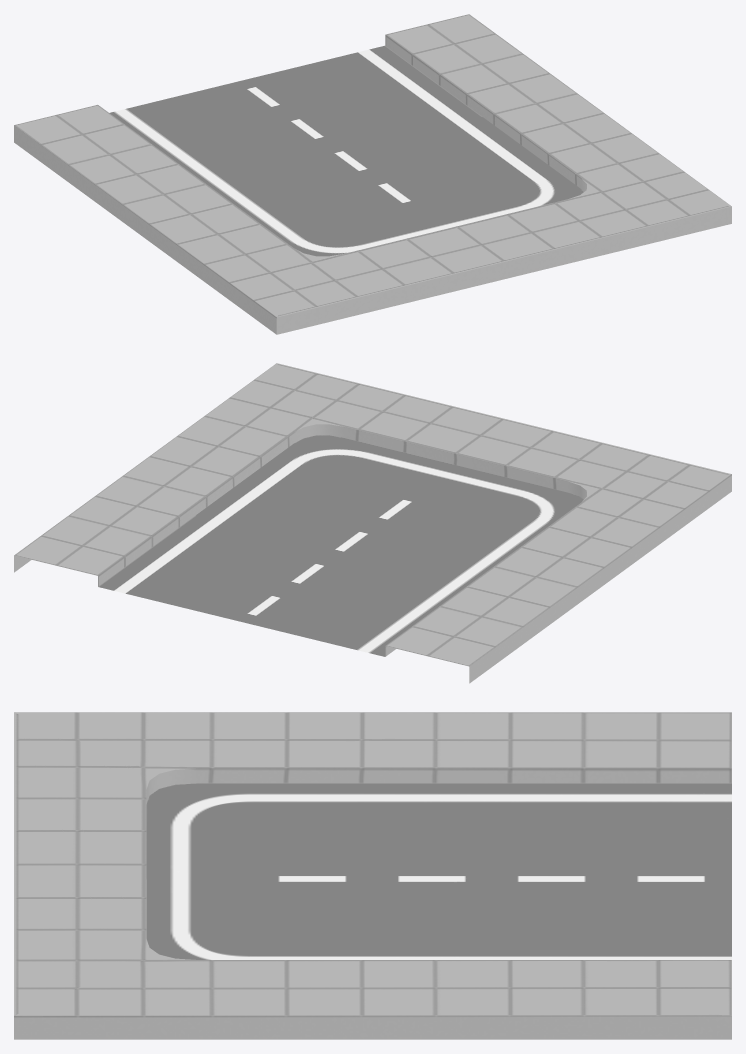
The model's file is Road.glb.
3 views of the same model, one above another, from view 1: azimuth 30°, elevation 25°; view 2: azimuth 150°, elevation 25°; view 3: azimuth 270°, elevation 25° (orthographic). The views are drawn at different scales.
Visible parts, largest first — view 1: Object001; view 2: Object001; view 3: Object001.
Boxes of the visible parts, box(x1,y1,x2,y2) form: Object001: box(14, 14, 731, 334); Object001: box(14, 363, 731, 683); Object001: box(14, 712, 731, 1039).
Size of the model in its own units: 6 by 0.2183 by 6.
1 material, 1 textured.
